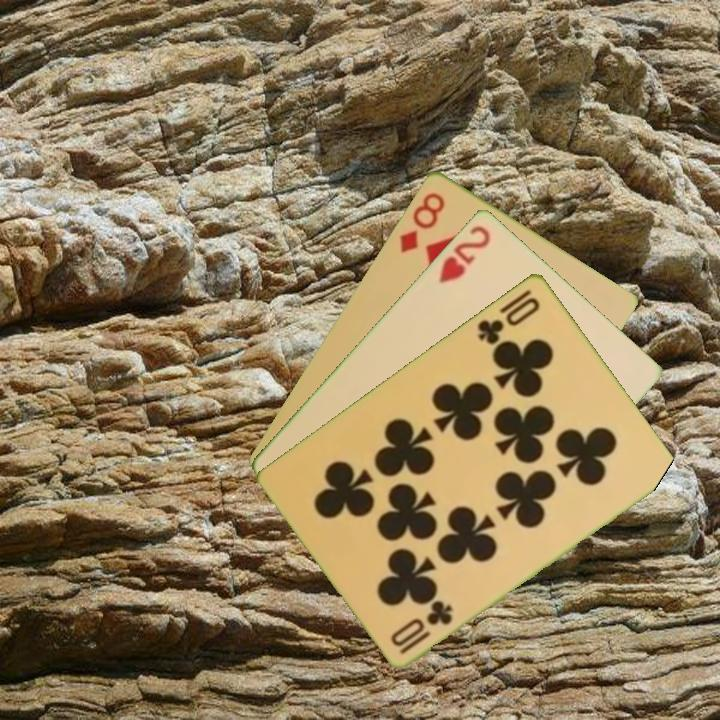10c: (474, 292, 543, 347), (396, 597, 456, 657)
2h: (435, 221, 494, 286)
8d: (395, 188, 448, 256)
